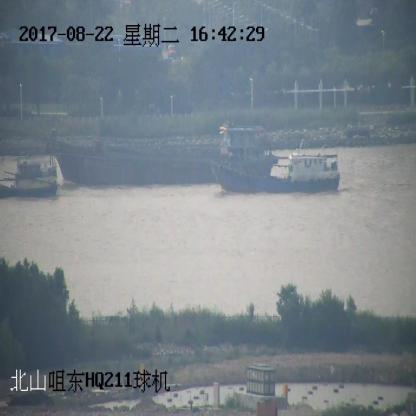Bulk Carrier: (0, 124, 276, 185)
